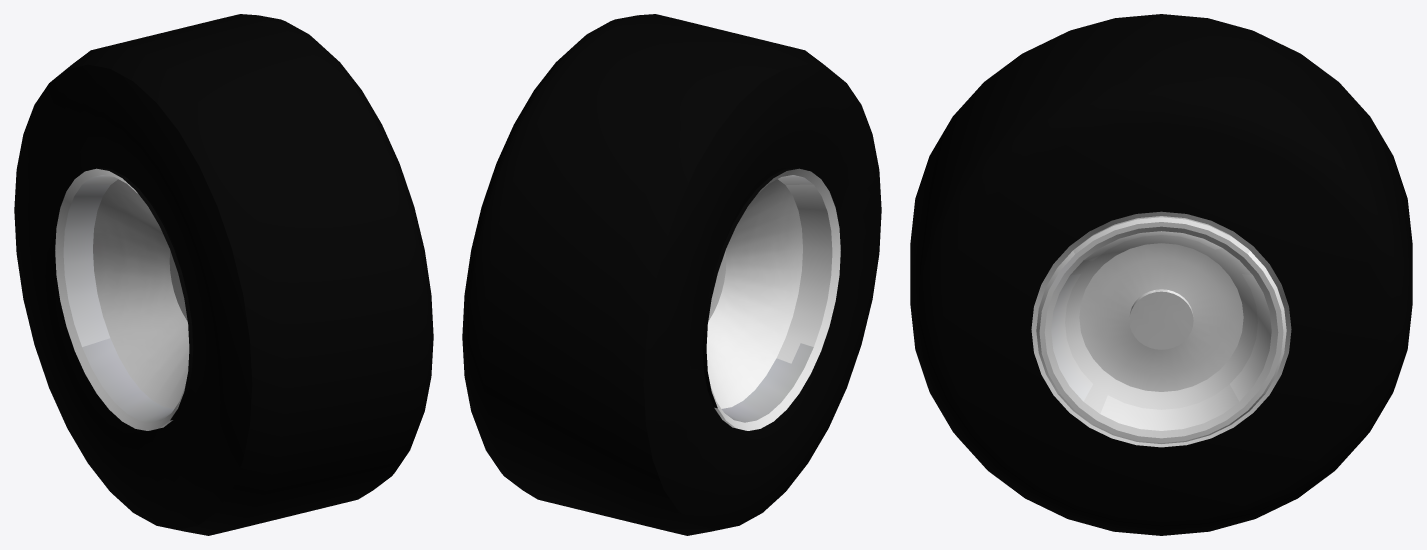
File: gokart2_frontwheel.fbx
3 views of the same model, side by side, from view 1: azimuth 30°, elevation 25°; view 2: azimuth 150°, elevation 25°; view 3: azimuth 270°, elevation 25° (orthographic).
Visible parts, largest first — view 1: Cylinder.001; view 2: Cylinder.001; view 3: Cylinder.001.
Part boxes in pixels (x1=…): Cylinder.001: x1=14, y1=14, x2=433, y2=535; Cylinder.001: x1=462, y1=14, x2=881, y2=535; Cylinder.001: x1=910, y1=14, x2=1412, y2=535.
Bounding box in the file's own units: 0.1893 × 0.3706 × 0.3706.
